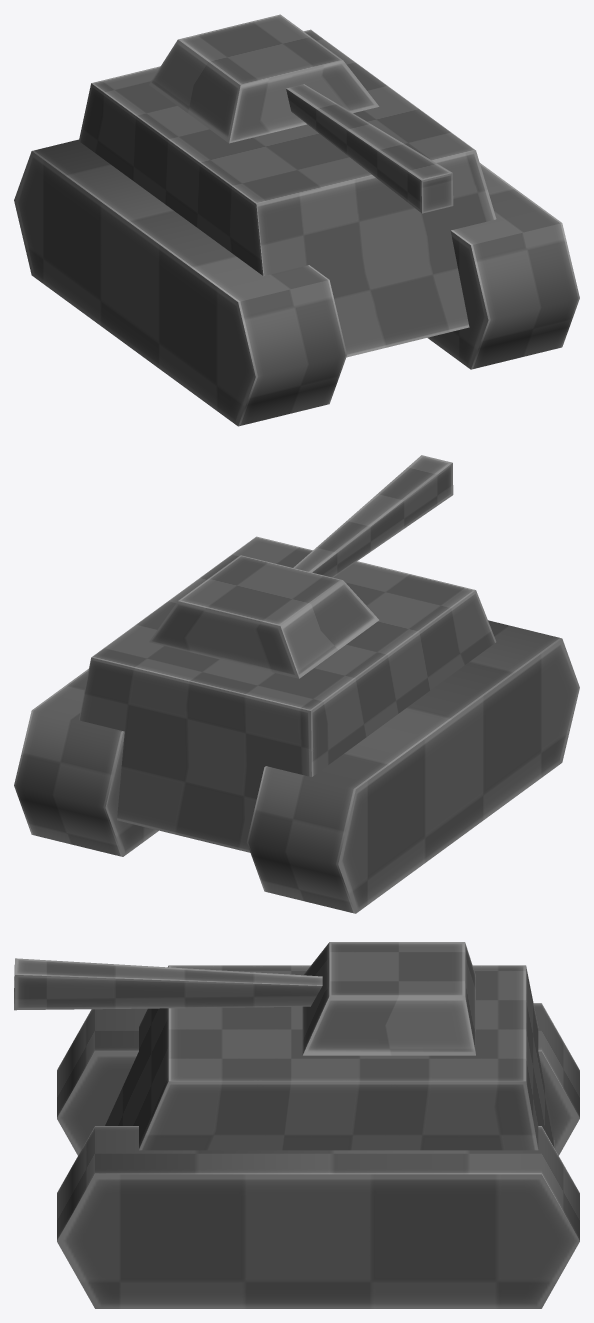
The model's file is tank534.FBX.
The picture shows the model from 3 angles, top to bottom: view 1: azimuth 30°, elevation 25°; view 2: azimuth 150°, elevation 25°; view 3: azimuth 270°, elevation 25°; orthographic projection. The views are drawn at different scales.
Parts seen in each view (by area): view 1: vehicle, trackR, trackL, turret, canon; view 2: vehicle, trackR, turret, trackL, canon; view 3: trackL, vehicle, turret, canon, trackR.
Boxes of the visible parts, x1,y1,x2,y2 form: vehicle: (79,29,496,357); trackR: (14,139,346,426); trackL: (427,163,579,369); turret: (149,14,379,143); canon: (286,84,453,213); vehicle: (79,536,496,852); trackR: (246,620,579,913); turret: (149,555,379,678); trackL: (14,668,158,856); canon: (293,455,453,577); trackL: (57,1126,579,1308); vehicle: (105,965,554,1150); turret: (302,942,475,1055); canon: (14,958,322,1010); trackR: (57,1003,579,1155).
Size of the model in its own units: 70.88 by 49.56 by 99.06.
